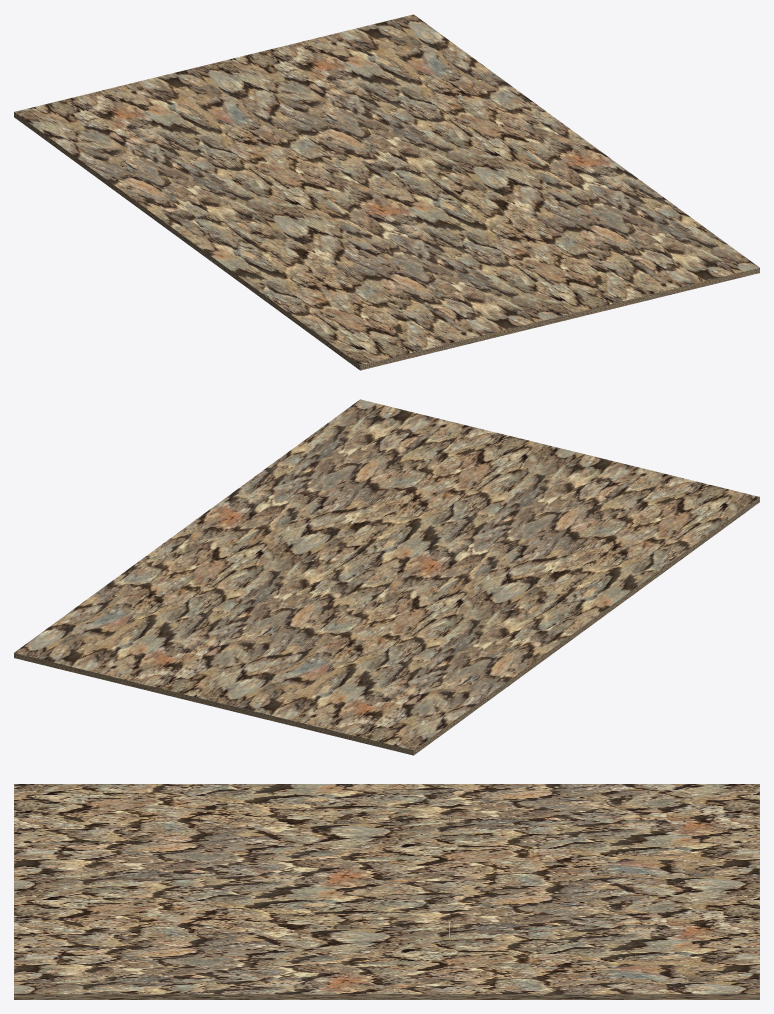
File: Block_root_voxels_96.fbx
The picture shows the model from 3 angles, top to bottom: view 1: azimuth 30°, elevation 25°; view 2: azimuth 150°, elevation 25°; view 3: azimuth 270°, elevation 25°; orthographic projection. The views are drawn at different scales.
Visible parts, largest first — view 1: Cube_sh_96, Cube_sh_91, Cube_sh_89, Cube_sh_90, Cube_sh_92, Cube_sh_94, Cube_sh_95, Cube_sh_93, Cube_sh_40, Cube_sh_72, Cube_sh_24, Cube_sh_32 (+84 smaller); view 2: Cube_sh_8, Cube_sh_3, Cube_sh_1, Cube_sh_2, Cube_sh_4, Cube_sh_6, Cube_sh_7, Cube_sh_5, Cube_sh_64, Cube_sh_32, Cube_sh_16, Cube_sh_72 (+84 smaller); view 3: Cube_sh_1, Cube_sh_9, Cube_sh_17, Cube_sh_25, Cube_sh_33, Cube_sh_57, Cube_sh_65, Cube_sh_73, Cube_sh_81, Cube_sh_41, Cube_sh_49, Cube_sh_89 (+84 smaller).
Part boxes in pixels (bbox=[...]): Cube_sh_96: bbox=[331, 332, 410, 370]; Cube_sh_91: bbox=[581, 271, 659, 309]; Cube_sh_89: bbox=[681, 247, 759, 284]; Cube_sh_90: bbox=[631, 259, 709, 297]; Cube_sh_92: bbox=[531, 283, 609, 321]; Cube_sh_94: bbox=[431, 307, 509, 345]; Cube_sh_95: bbox=[381, 320, 459, 358]; Cube_sh_93: bbox=[482, 295, 559, 333]; Cube_sh_40: bbox=[129, 184, 207, 222]; Cube_sh_72: bbox=[244, 268, 323, 306]; Cube_sh_24: bbox=[71, 142, 149, 180]; Cube_sh_32: bbox=[100, 163, 178, 200]; Cube_sh_8: bbox=[363, 717, 442, 755]; Cube_sh_3: bbox=[114, 656, 192, 694]; Cube_sh_1: bbox=[14, 632, 92, 669]; Cube_sh_2: bbox=[64, 644, 142, 682]; Cube_sh_4: bbox=[164, 668, 242, 706]; Cube_sh_6: bbox=[264, 692, 342, 730]; Cube_sh_7: bbox=[314, 705, 392, 743]; Cube_sh_5: bbox=[214, 680, 291, 718]; Cube_sh_64: bbox=[566, 569, 644, 607]; Cube_sh_32: bbox=[450, 653, 529, 691]; Cube_sh_16: bbox=[393, 696, 471, 733]; Cube_sh_72: bbox=[595, 548, 673, 585]; Cube_sh_1: bbox=[697, 968, 759, 999]; Cube_sh_9: bbox=[635, 968, 697, 999]; Cube_sh_17: bbox=[573, 968, 635, 999]; Cube_sh_25: bbox=[511, 968, 573, 999]; Cube_sh_33: bbox=[449, 968, 511, 999]; Cube_sh_57: bbox=[262, 968, 324, 999]; Cube_sh_65: bbox=[200, 968, 262, 999]; Cube_sh_73: bbox=[138, 968, 200, 999]; Cube_sh_81: bbox=[76, 968, 138, 999]; Cube_sh_41: bbox=[387, 968, 449, 999]; Cube_sh_49: bbox=[325, 968, 386, 999]; Cube_sh_89: bbox=[14, 968, 75, 999].
Size of the model in its own units: 2000 by 25 by 3000.
1 material, 1 textured.
